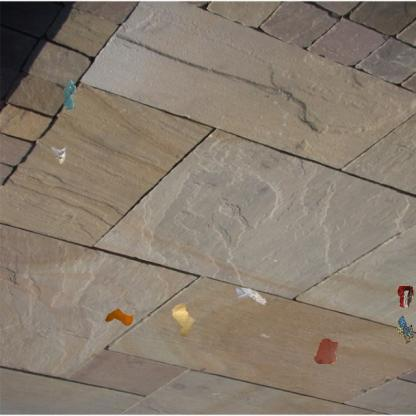dirty: (170, 302, 196, 338), (103, 306, 136, 328), (394, 312, 416, 345), (235, 286, 266, 307), (396, 283, 416, 310), (50, 145, 68, 166)
liquid: (313, 337, 339, 366), (61, 79, 77, 111)
